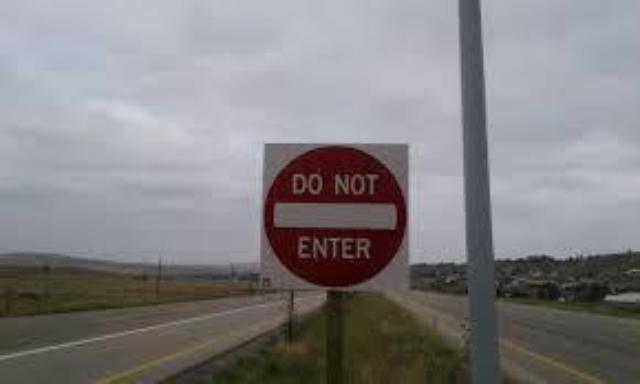B2: (254, 137, 410, 291)
